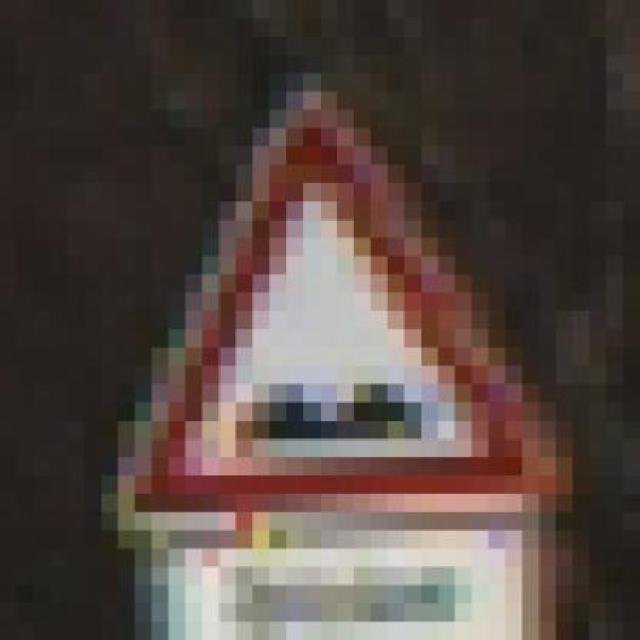Uneven Road: (118, 73, 556, 530)
